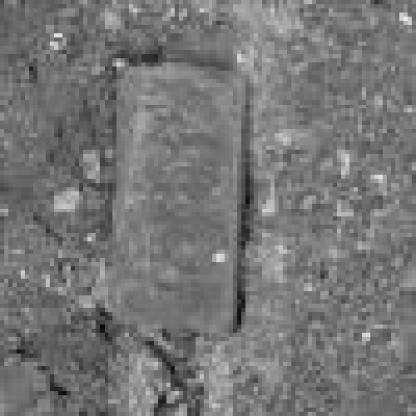brick: (98, 65, 245, 338)
